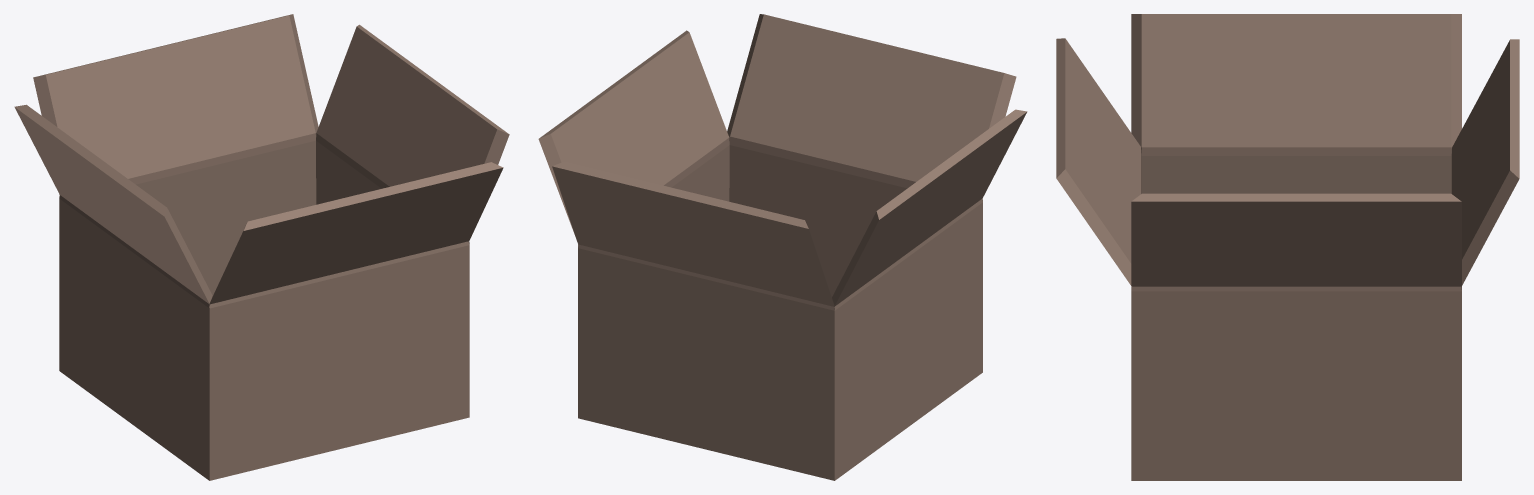
File: GameAsset_Box_v01.fbx
The picture shows the model from 3 angles, left to right: view 1: azimuth 30°, elevation 25°; view 2: azimuth 150°, elevation 25°; view 3: azimuth 270°, elevation 25°; orthographic projection. The views are drawn at different scales.
Visible parts, largest first — view 1: Cube.001; view 2: Cube.001; view 3: Cube.001.
Part boxes in pixels (bbox=[...]): Cube.001: bbox=[14, 14, 509, 480]; Cube.001: bbox=[538, 14, 1027, 480]; Cube.001: bbox=[1056, 14, 1519, 480].
Bounding box in the file's own units: 53.3 × 41.23 × 56.28.
